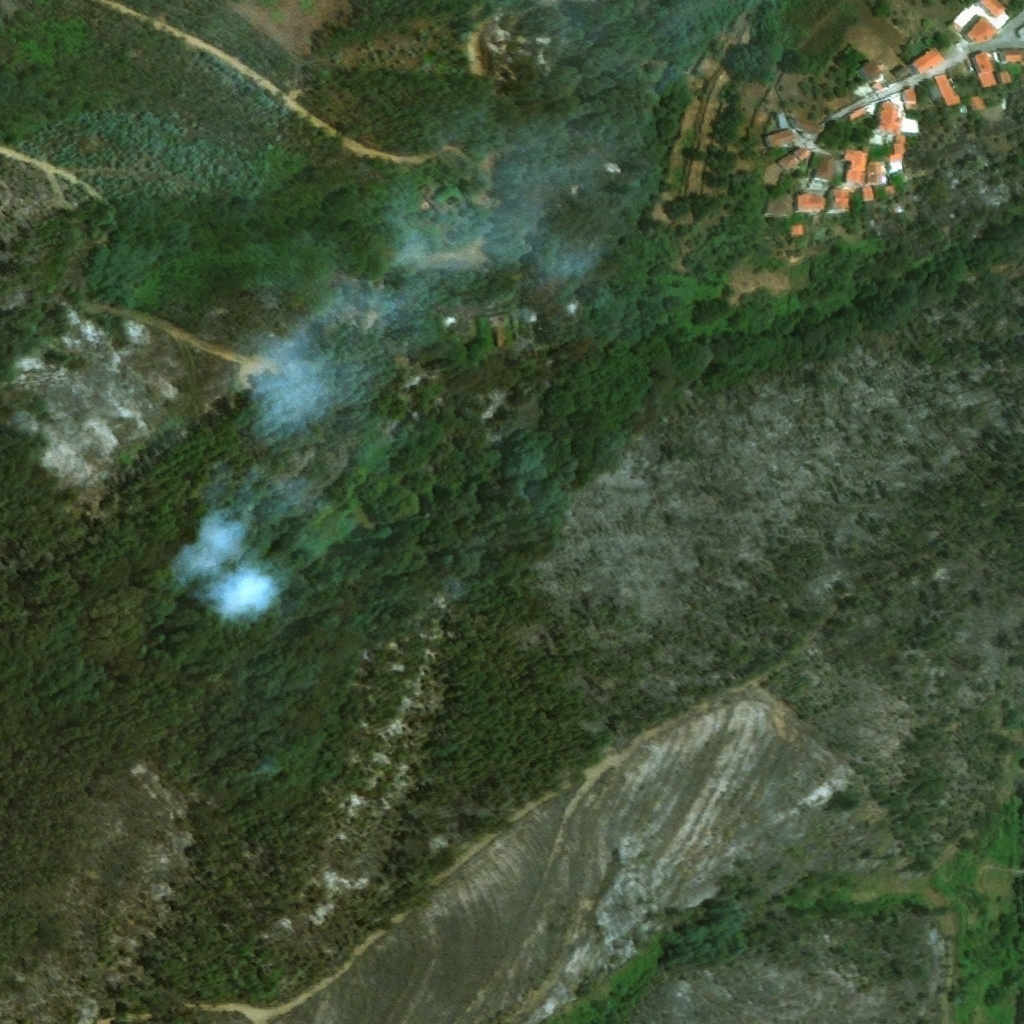0 no-damage: (972, 51, 1015, 88), (843, 144, 872, 189), (929, 73, 963, 106), (911, 47, 947, 75), (964, 16, 1000, 43), (777, 146, 813, 173), (875, 99, 903, 133), (690, 56, 722, 85), (808, 157, 835, 191), (762, 128, 797, 151), (857, 57, 884, 83), (765, 194, 792, 219), (791, 118, 825, 137), (487, 315, 507, 347), (890, 135, 907, 170), (796, 193, 824, 213), (828, 188, 849, 213), (867, 161, 886, 185), (1000, 49, 1023, 63), (970, 94, 986, 111), (903, 85, 917, 104), (895, 66, 913, 79), (789, 225, 803, 238), (862, 189, 873, 202), (872, 82, 882, 90)
4 un-classified: (979, 0, 1008, 18)
